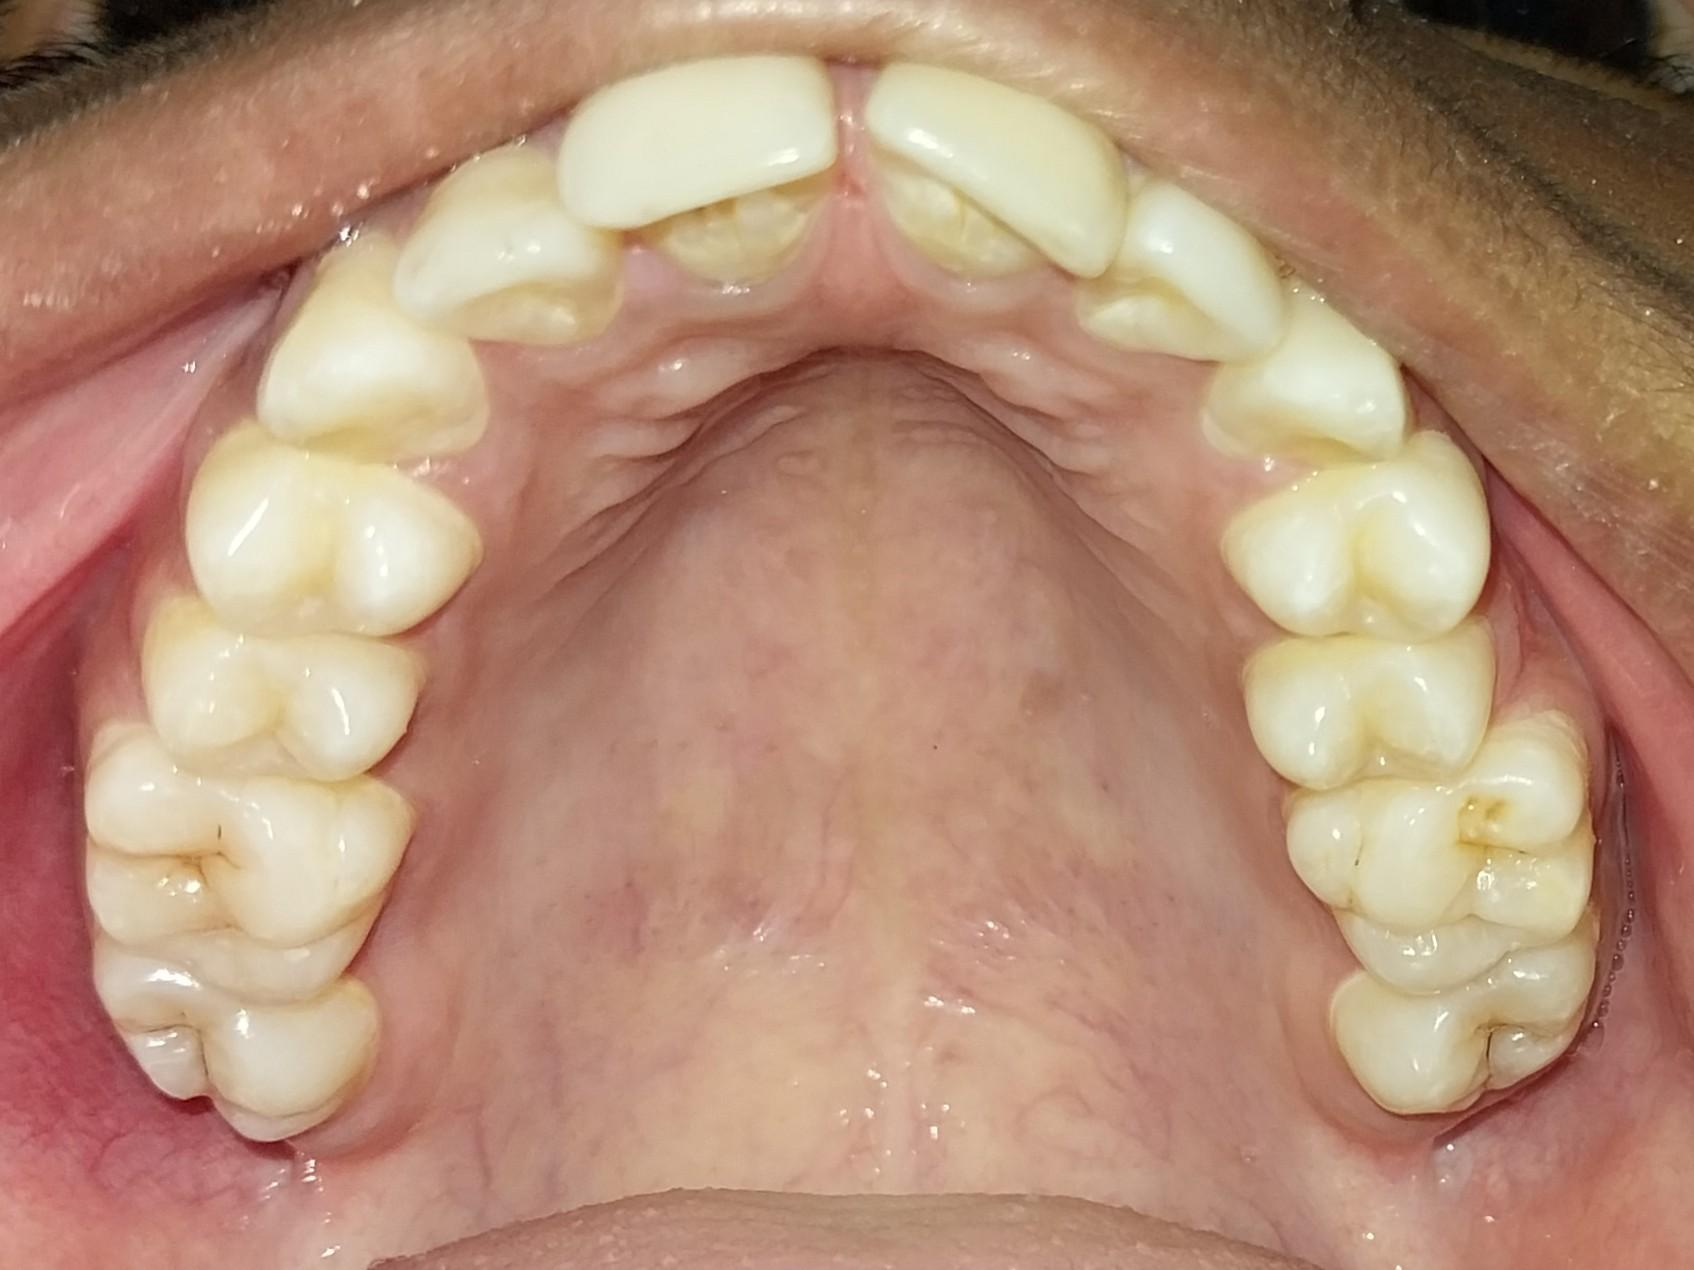D: (1338, 954, 1590, 1113)
